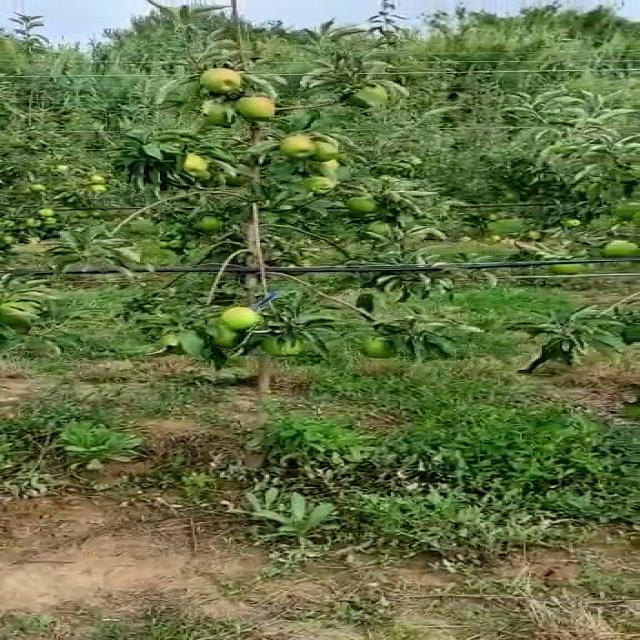100-_ripeness: (216, 308, 268, 333), (200, 67, 245, 93), (165, 333, 213, 355), (276, 135, 318, 160), (256, 334, 306, 355), (346, 85, 389, 109), (198, 104, 238, 128), (206, 326, 246, 350), (236, 96, 276, 119), (304, 141, 342, 162), (602, 239, 640, 259), (362, 336, 402, 355), (185, 154, 208, 176), (314, 156, 336, 177), (349, 195, 375, 212), (311, 178, 338, 193), (196, 214, 220, 228)
